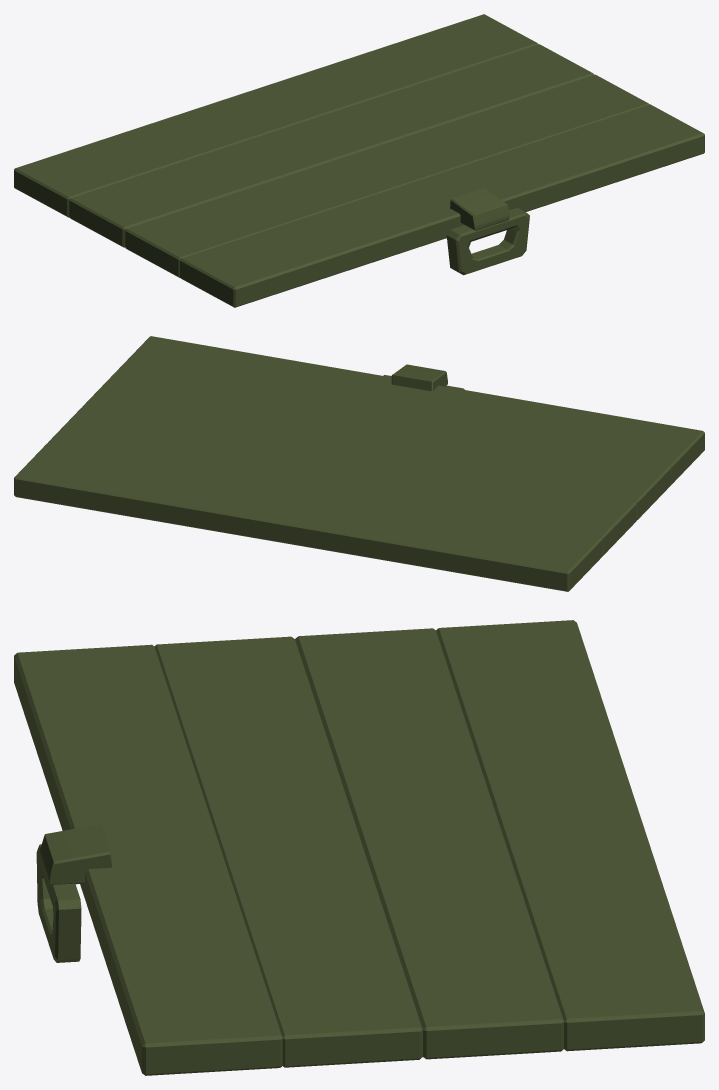
Rendered from caixa_3_tampa.glb.
3 renders of one model, top to bottom at view 1: azimuth 30°, elevation 25°; view 2: azimuth 150°, elevation 25°; view 3: azimuth 270°, elevation 25°, orthographic. The views are drawn at different scales.
Parts seen in each view (by area): view 1: SM_WeaponCrate_03_L; view 2: SM_WeaponCrate_03_L; view 3: SM_WeaponCrate_03_L.
Part boxes in pixels (bbox=[...]): SM_WeaponCrate_03_L: bbox=[14, 14, 704, 307]; SM_WeaponCrate_03_L: bbox=[14, 336, 704, 591]; SM_WeaponCrate_03_L: bbox=[14, 620, 704, 1075].
Size of the model in its own units: 1.01 by 0.1065 by 0.6954.
